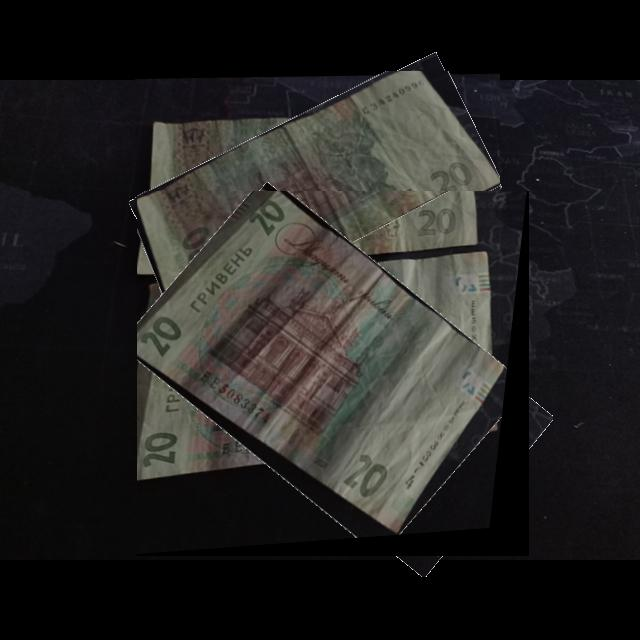20uah: (137, 191, 512, 540), (135, 71, 501, 339)
